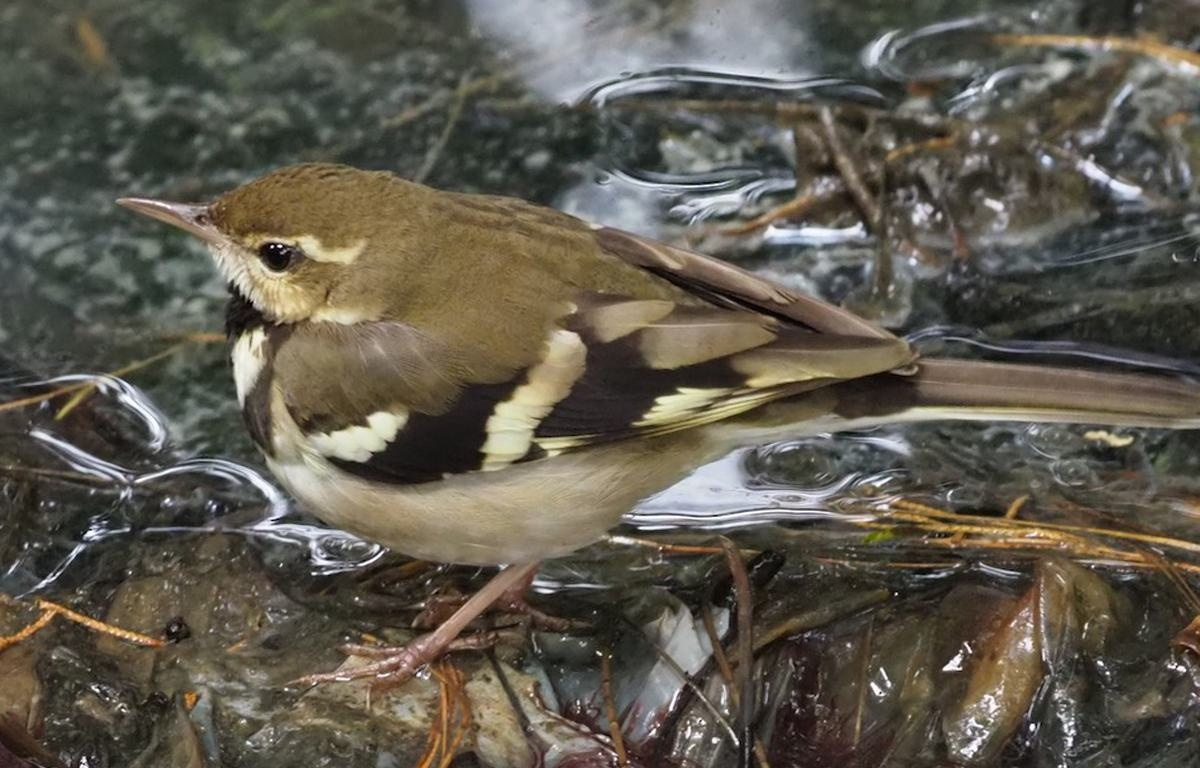wagtail: (110, 131, 1146, 652)
